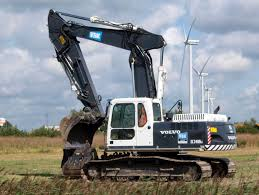excavator: (45, 8, 237, 182)
